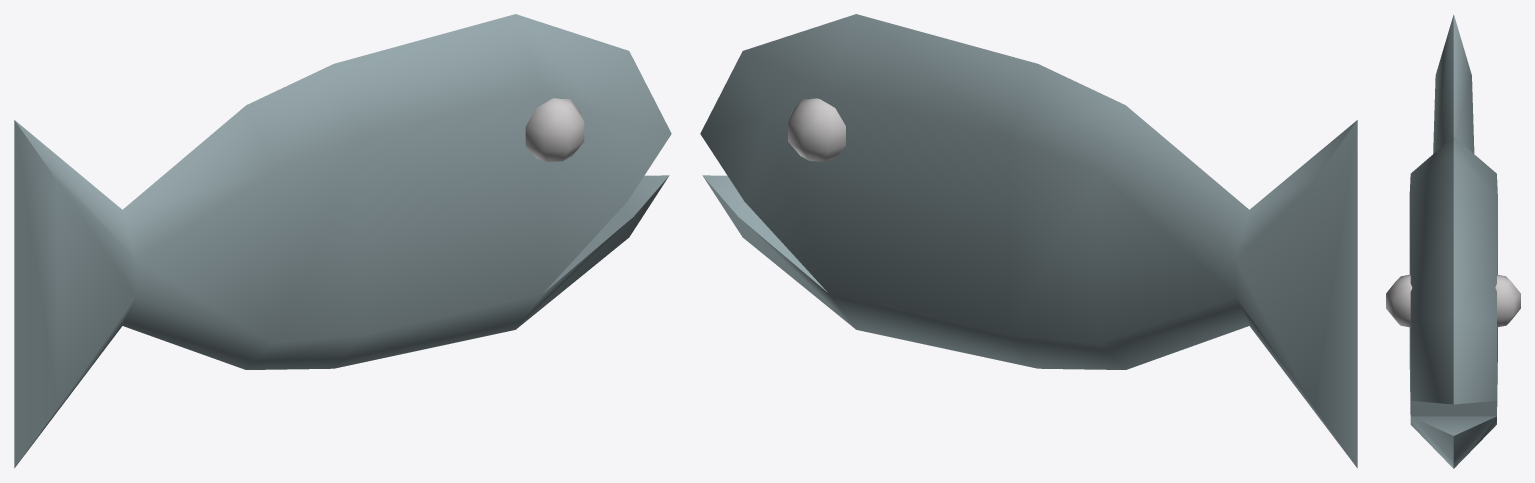
Rendered from Fish.fbx.
3 renders of one model, left to right at view 1: azimuth 30°, elevation 25°; view 2: azimuth 150°, elevation 25°; view 3: azimuth 270°, elevation 25°, orthographic. The views are drawn at different scales.
Visible parts, largest first — view 1: pCube72, pSphere2; view 2: pCube72, pSphere1; view 3: pCube72, pSphere2, pSphere1.
Boxes of the visible parts, x1=… form: pCube72: x1=14, y1=14, x2=671, y2=468; pSphere2: x1=525, y1=98, x2=584, y2=161; pCube72: x1=700, y1=14, x2=1357, y2=468; pSphere1: x1=788, y1=98, x2=845, y2=161; pCube72: x1=1409, y1=14, x2=1497, y2=468; pSphere2: x1=1386, y1=274, x2=1412, y2=327; pSphere1: x1=1495, y1=274, x2=1520, y2=327.
Size of the model in its own units: 237 by 120 by 53.4.
